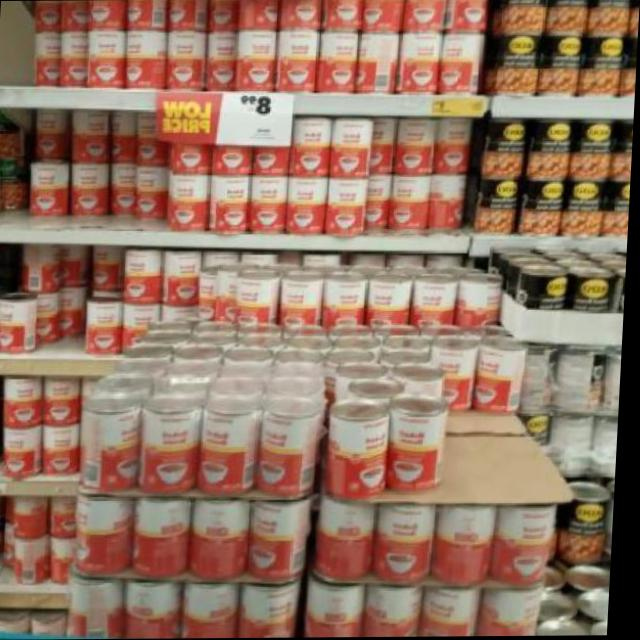Beans: (390, 412, 452, 457), (496, 32, 539, 74), (155, 414, 198, 456), (205, 420, 253, 456), (441, 30, 486, 68), (566, 498, 615, 532), (584, 35, 626, 74), (478, 349, 527, 382), (523, 182, 568, 217), (413, 283, 460, 316), (316, 29, 359, 65), (575, 276, 618, 312), (281, 279, 325, 314), (460, 280, 505, 314), (486, 121, 528, 157), (434, 348, 480, 380), (265, 422, 311, 454), (84, 29, 126, 64), (279, 27, 317, 65), (538, 33, 577, 70), (331, 118, 371, 154), (531, 273, 574, 306), (0, 427, 44, 459), (576, 120, 613, 158), (232, 32, 278, 62), (402, 29, 438, 67), (394, 515, 435, 548), (358, 414, 390, 456), (164, 27, 201, 63), (84, 299, 122, 334), (290, 118, 330, 151), (28, 163, 72, 193), (167, 175, 207, 208), (365, 283, 412, 311), (478, 178, 517, 211), (565, 179, 604, 212), (433, 119, 473, 151), (209, 175, 253, 204), (507, 520, 556, 546), (249, 178, 291, 208), (328, 178, 366, 211), (327, 280, 366, 312), (289, 179, 327, 211), (40, 379, 83, 407), (395, 119, 435, 149), (165, 249, 202, 281), (123, 253, 160, 285), (45, 422, 81, 453), (393, 177, 429, 206), (72, 166, 109, 194), (539, 125, 571, 157), (258, 518, 297, 544), (6, 379, 43, 404), (0, 302, 32, 330), (137, 165, 164, 197), (607, 184, 632, 216), (74, 114, 110, 136)
